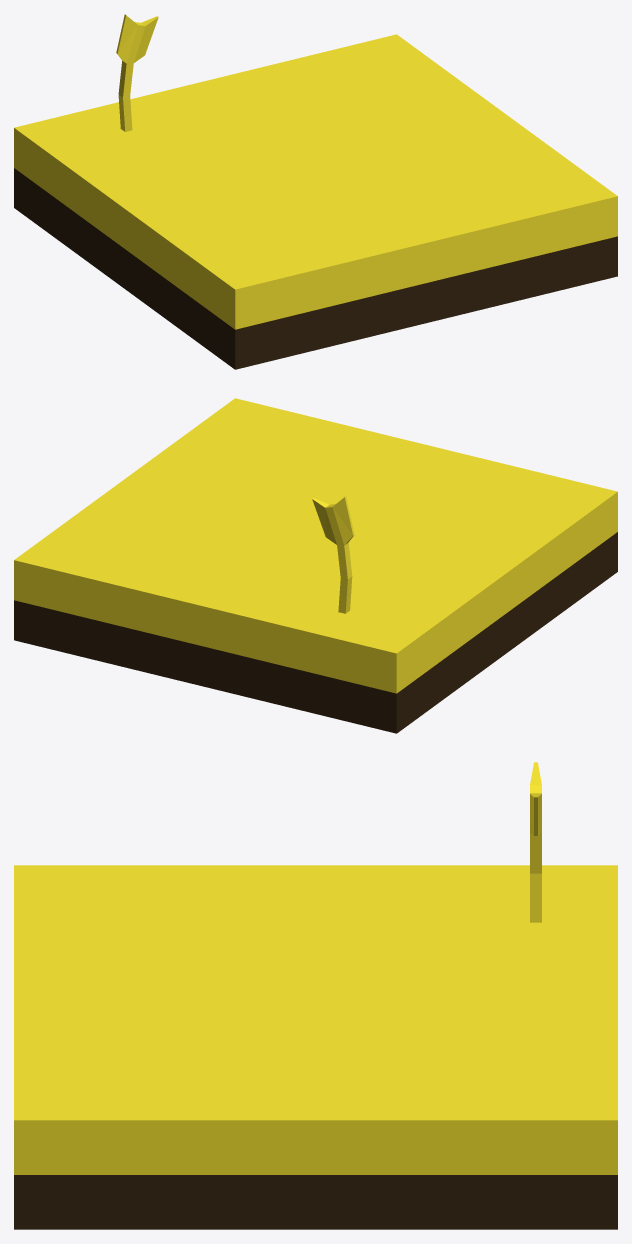
Rendered from field.dae.
3 views of the same model, one above another, from view 1: azimuth 30°, elevation 25°; view 2: azimuth 150°, elevation 25°; view 3: azimuth 270°, elevation 25° (orthographic). The views are drawn at different scales.
Visible parts, largest first — view 1: field, 1_zboz; view 2: field, 1_zboz; view 3: field, 1_zboz.
Part boxes in pixels (box(x1,y1,x2,y2)): field: box(14, 34, 617, 369); 1_zboz: box(116, 14, 158, 131); field: box(14, 398, 617, 733); 1_zboz: box(312, 496, 354, 613); field: box(14, 865, 617, 1229); 1_zboz: box(530, 762, 541, 922).
Size of the model in its own units: 0.00999 by 0.01 by 0.00487.
